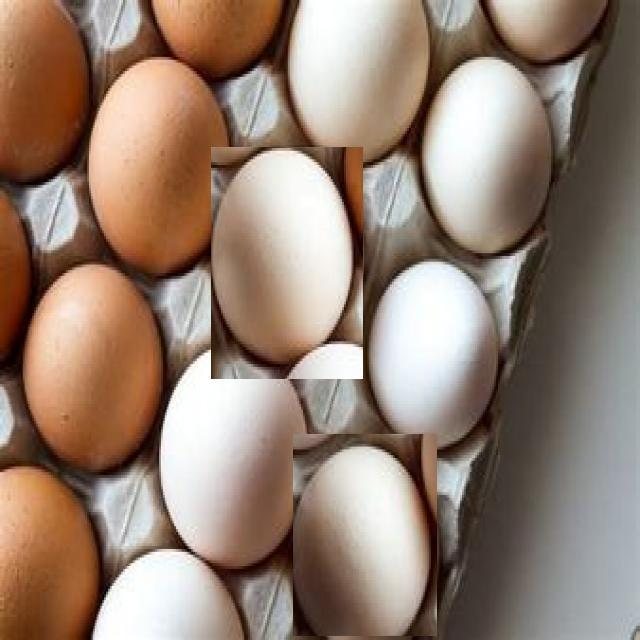Egg: (154, 326, 306, 576), (212, 147, 364, 379), (355, 258, 510, 454), (417, 52, 558, 264), (293, 434, 437, 636)
